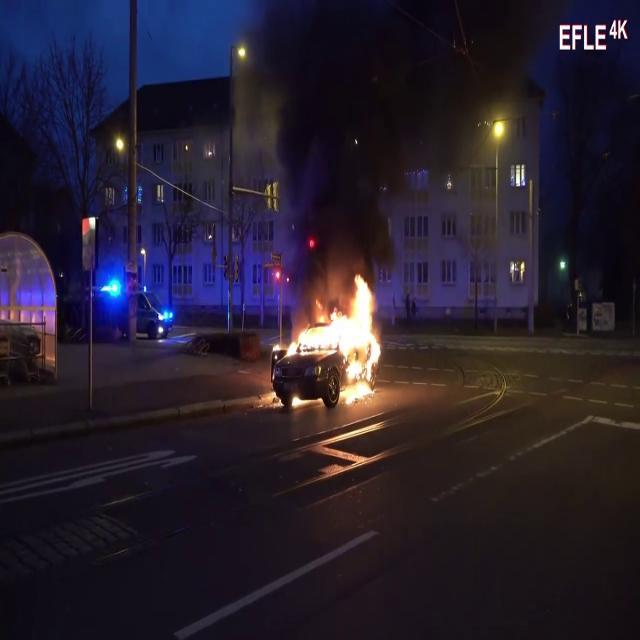Fire: (287, 273, 385, 399)
Smoke: (240, 1, 452, 280)
